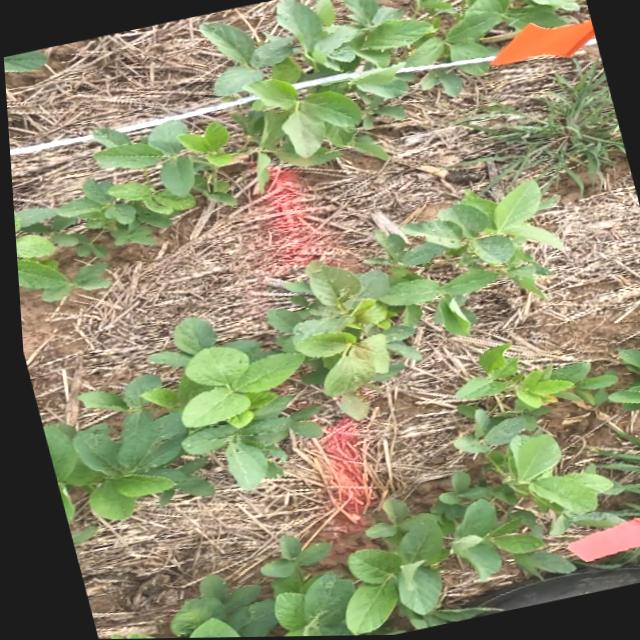grassy_weed: (462, 62, 624, 191), (589, 437, 640, 521), (586, 550, 640, 565)
soy_plant: (38, 182, 553, 520), (8, 0, 579, 300), (163, 348, 614, 638), (610, 352, 640, 410), (3, 50, 45, 72)
